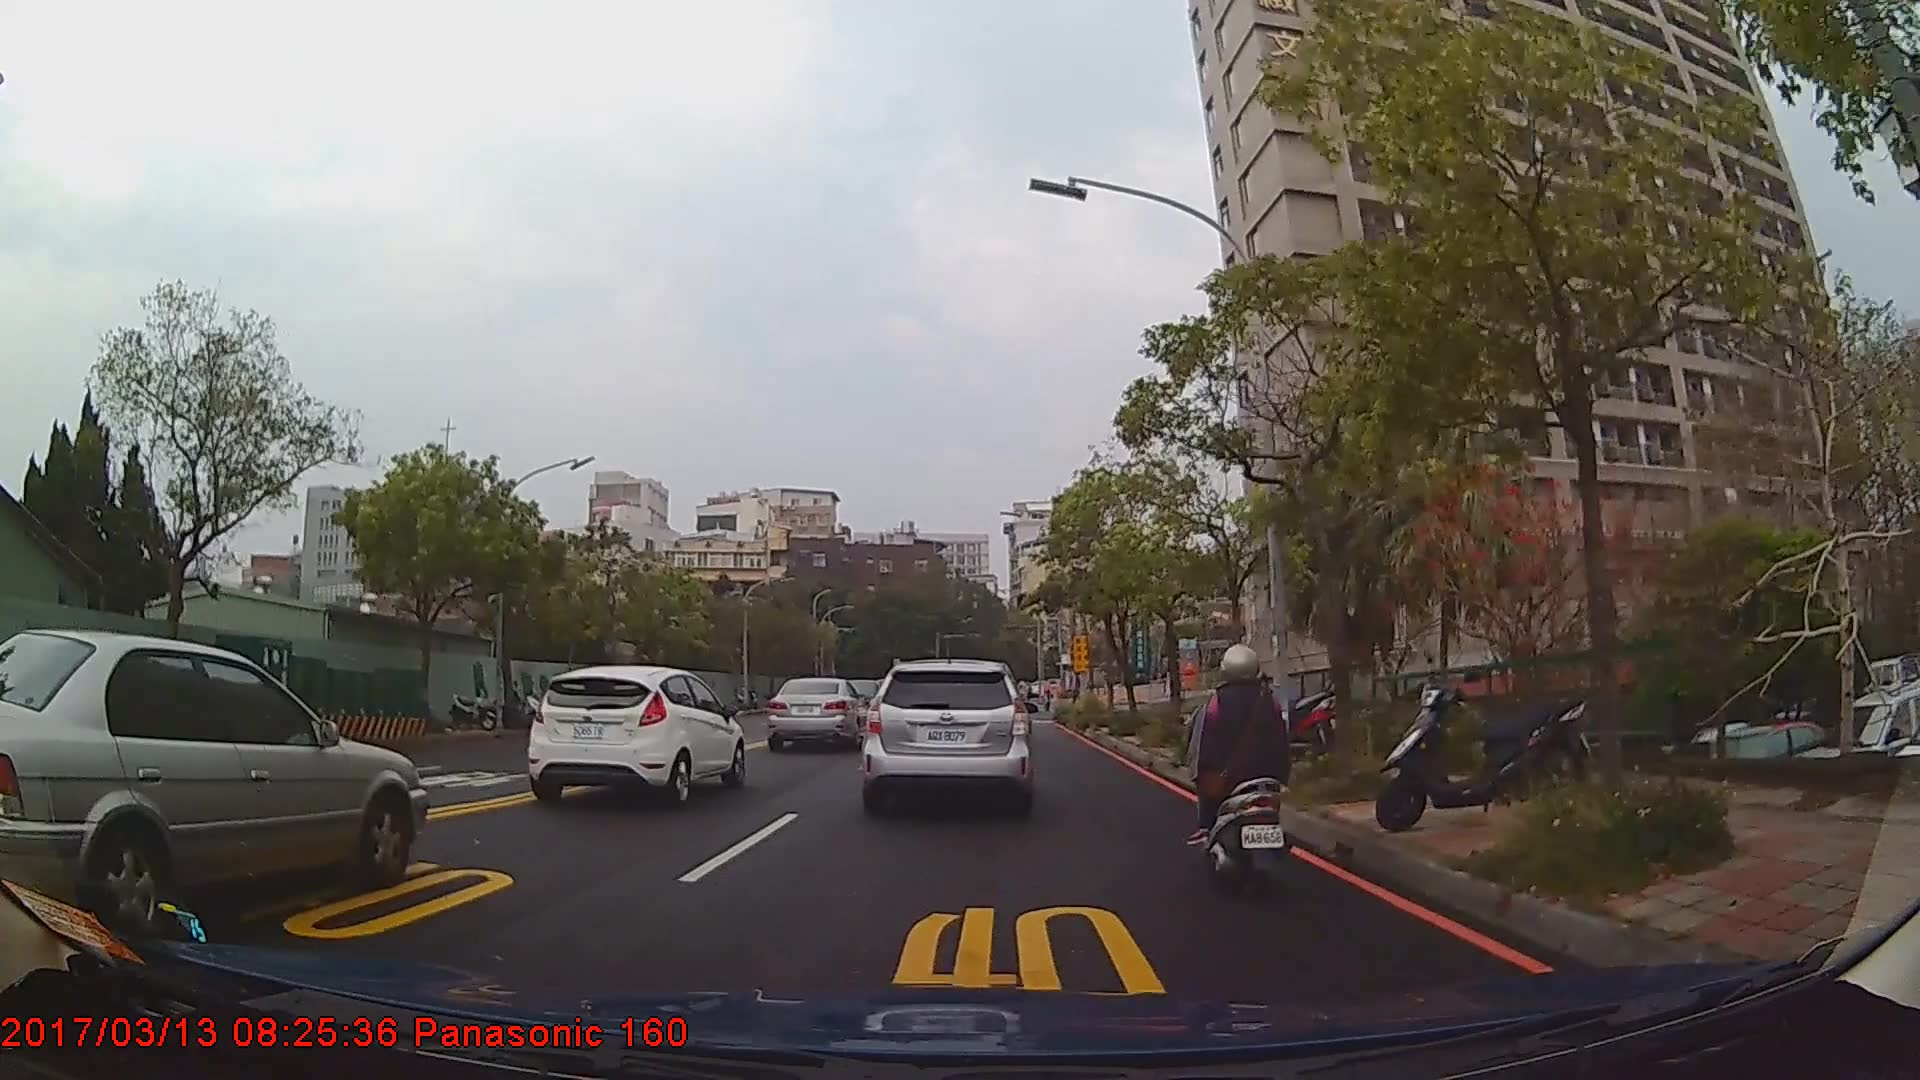rider: (1187, 642, 1307, 897)
vehicle: (0, 623, 426, 941), (524, 665, 744, 811), (861, 658, 1033, 821), (767, 674, 870, 753)
